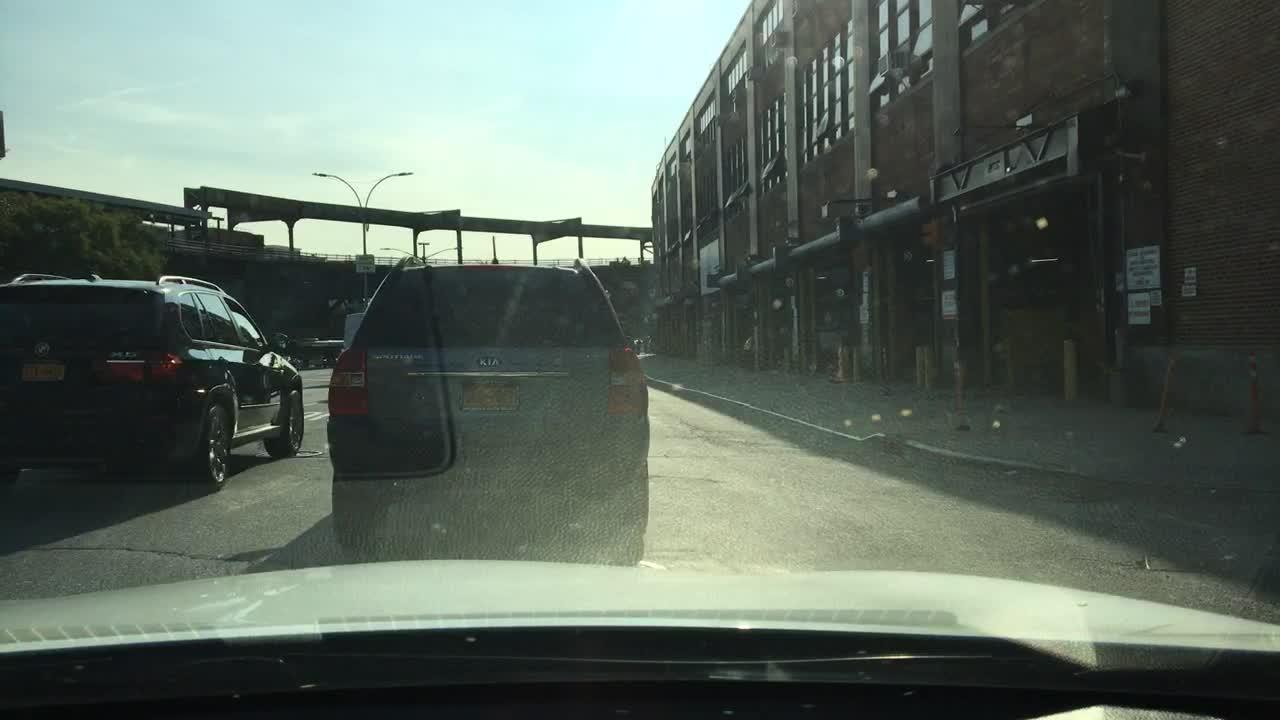bmw: (32, 339, 54, 360)
kia: (467, 346, 509, 375)
